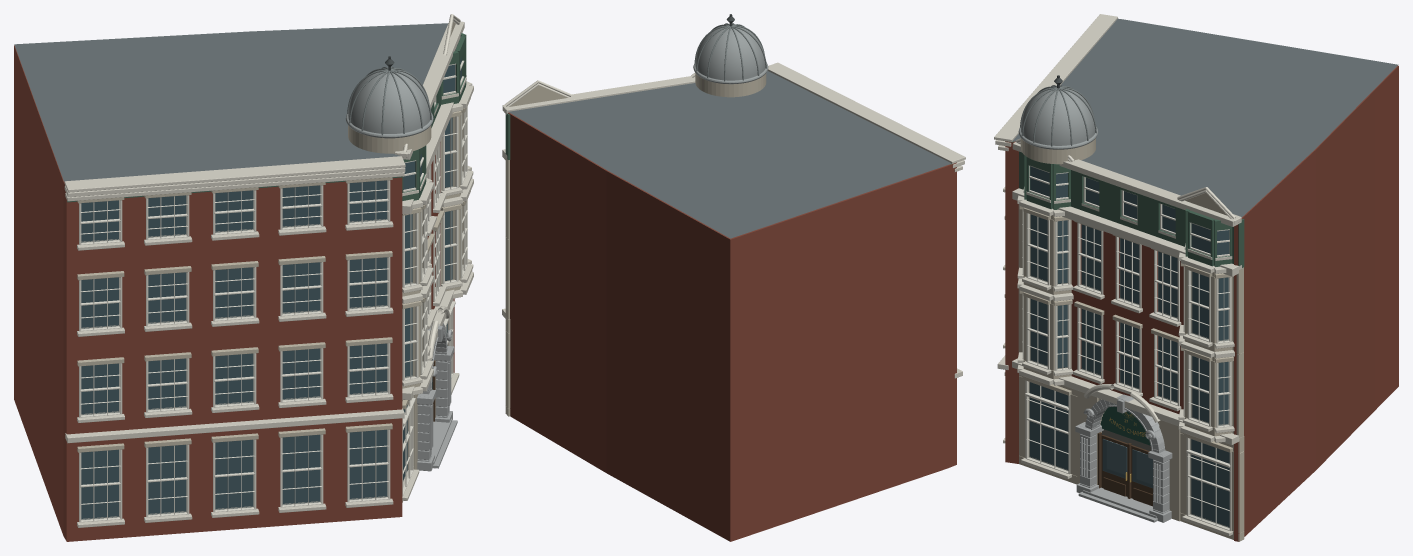
Rendered from kgs-exterior-720f3c8b951c.glb.
The picture shows the model from 3 angles, left to right: view 1: azimuth 30°, elevation 25°; view 2: azimuth 150°, elevation 25°; view 3: azimuth 270°, elevation 25°; orthographic projection. The views are drawn at different scales.
Visible parts, largest first — view 1: KGS.001; view 2: KGS.001; view 3: KGS.001.
Boxes of the visible parts, x1,y1,x2,y2 form: KGS.001: [14, 14, 473, 541]; KGS.001: [502, 14, 965, 541]; KGS.001: [994, 14, 1398, 541].
Bounding box in the file's own units: 21.13 × 18.66 × 17.38.
